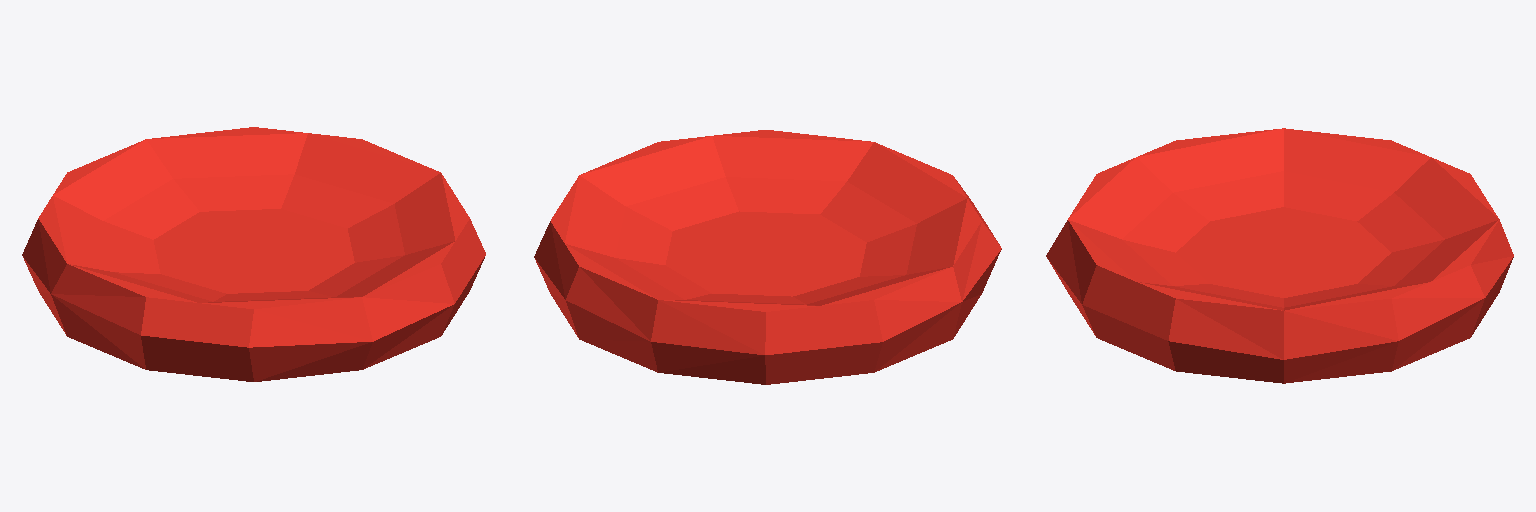
The picture shows the model from 3 angles: view 1: azimuth 30°, elevation 25°; view 2: azimuth 150°, elevation 25°; view 3: azimuth 270°, elevation 25°; orthographic projection.
Parts seen in each view (by area): view 1: group[number redacted]; view 2: group[number redacted]; view 3: group[number redacted].
Boxes of the visible parts, x1=… form: group[number redacted]: x1=22, y1=127, x2=485, y2=381; group[number redacted]: x1=534, y1=130, x2=1001, y2=384; group[number redacted]: x1=1046, y1=128, x2=1513, y2=383.
Size of the model in its own units: 0.63 by 0.11 by 0.64.